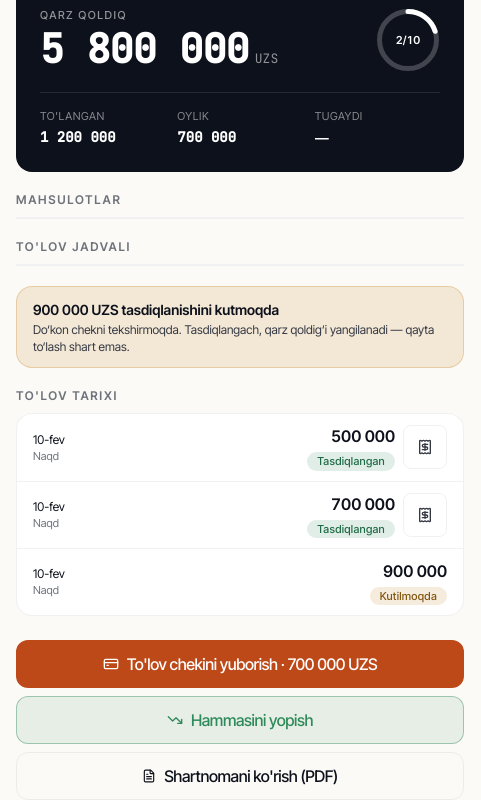
Test: LX-01 · contract PDF › does not claim Telegram delivery for a browser save
(page scrolled)
Click the button "Shartnomani ko'rish (PDF)": (240, 776) 16,752 -> 464,799
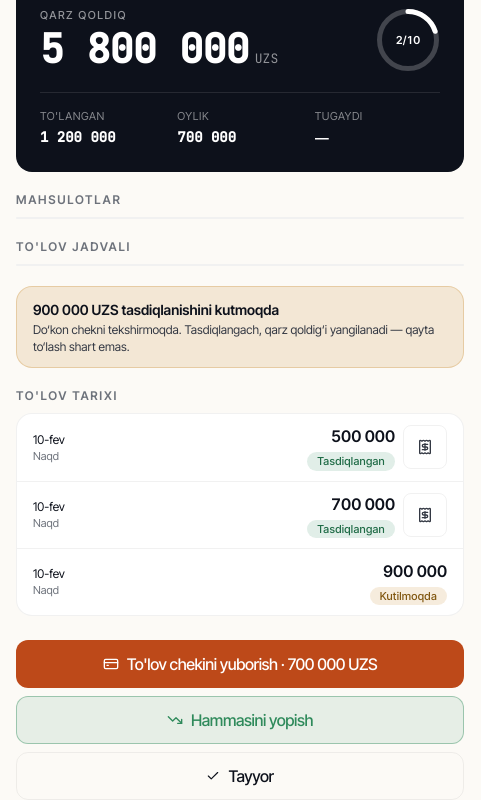
Check: the button "Tayyor" is shown, box 16,752 -> 464,799
